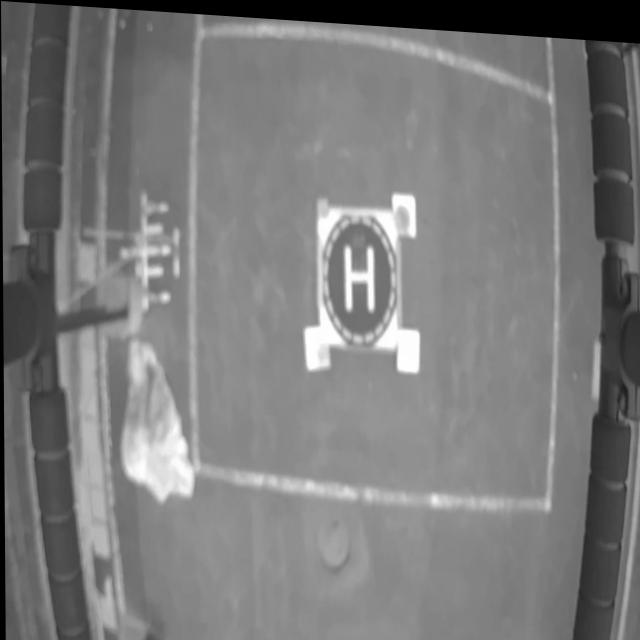Helipad: (343, 233, 373, 307)
